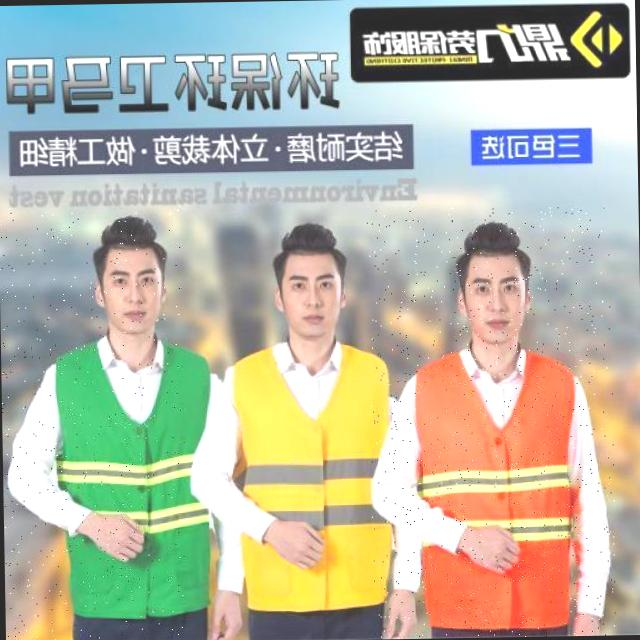no-gloves: (454, 514, 520, 578), (76, 505, 147, 561), (384, 583, 418, 639)
no-helmet: (452, 218, 534, 352), (272, 220, 352, 346), (92, 214, 170, 336)
vest: (418, 343, 584, 630), (226, 342, 395, 614), (50, 335, 209, 618)
